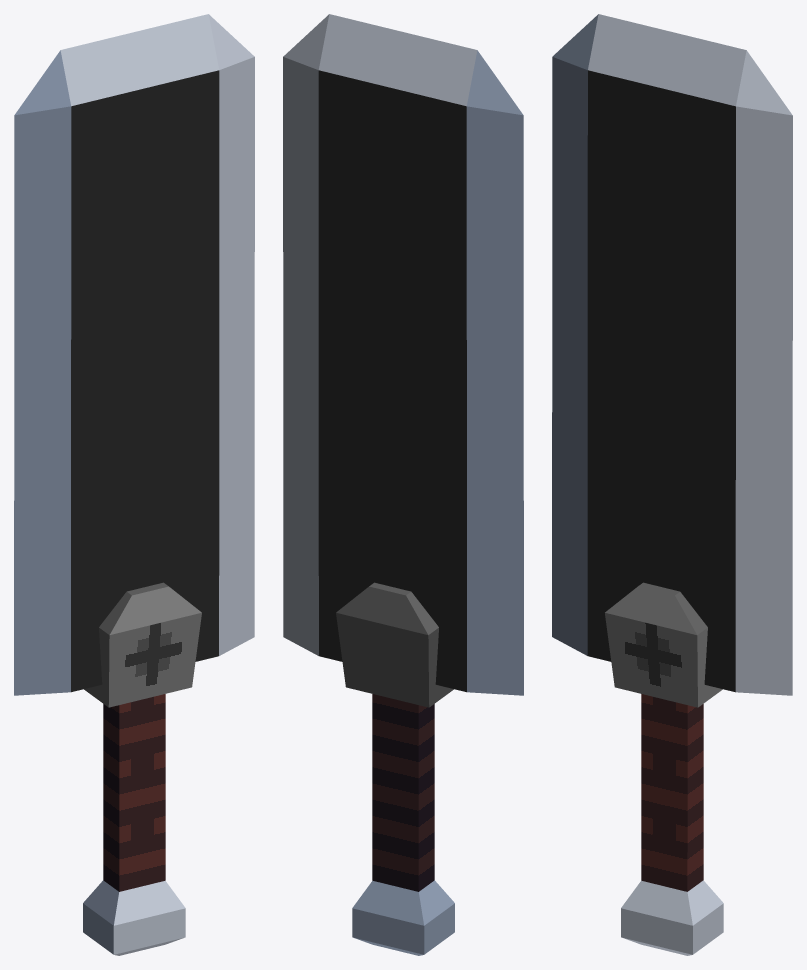
File: Sword.gltf
3 renders of one model, left to right at view 1: azimuth 30°, elevation 25°; view 2: azimuth 150°, elevation 25°; view 3: azimuth 330°, elevation 25°, orthographic.
Parts seen in each view (by area): view 1: Sword.001; view 2: Sword.001; view 3: Sword.001.
Part boxes in pixels (x1=…): Sword.001: x1=14, y1=14, x2=254, y2=955; Sword.001: x1=283, y1=14, x2=523, y2=955; Sword.001: x1=552, y1=14, x2=792, y2=955.
Size of the model in its own units: 1.87 by 6.79 by 0.5762.
Materials: 1 (1 with a texture image).
